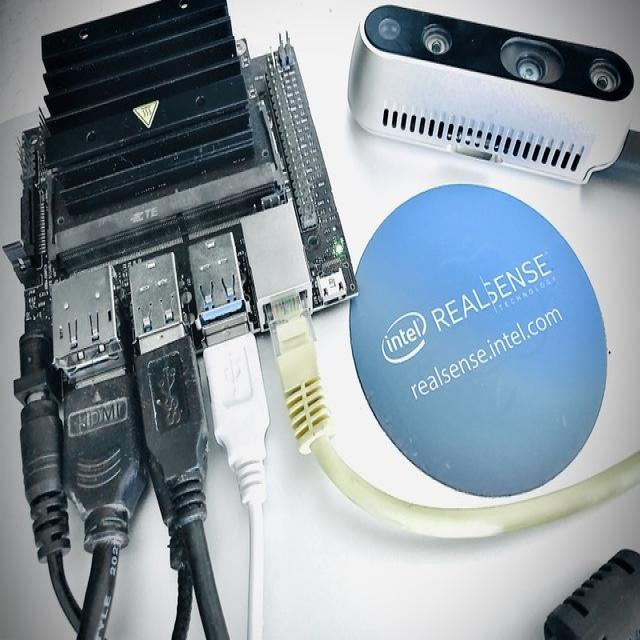Jetson Nano: (4, 1, 359, 396)
